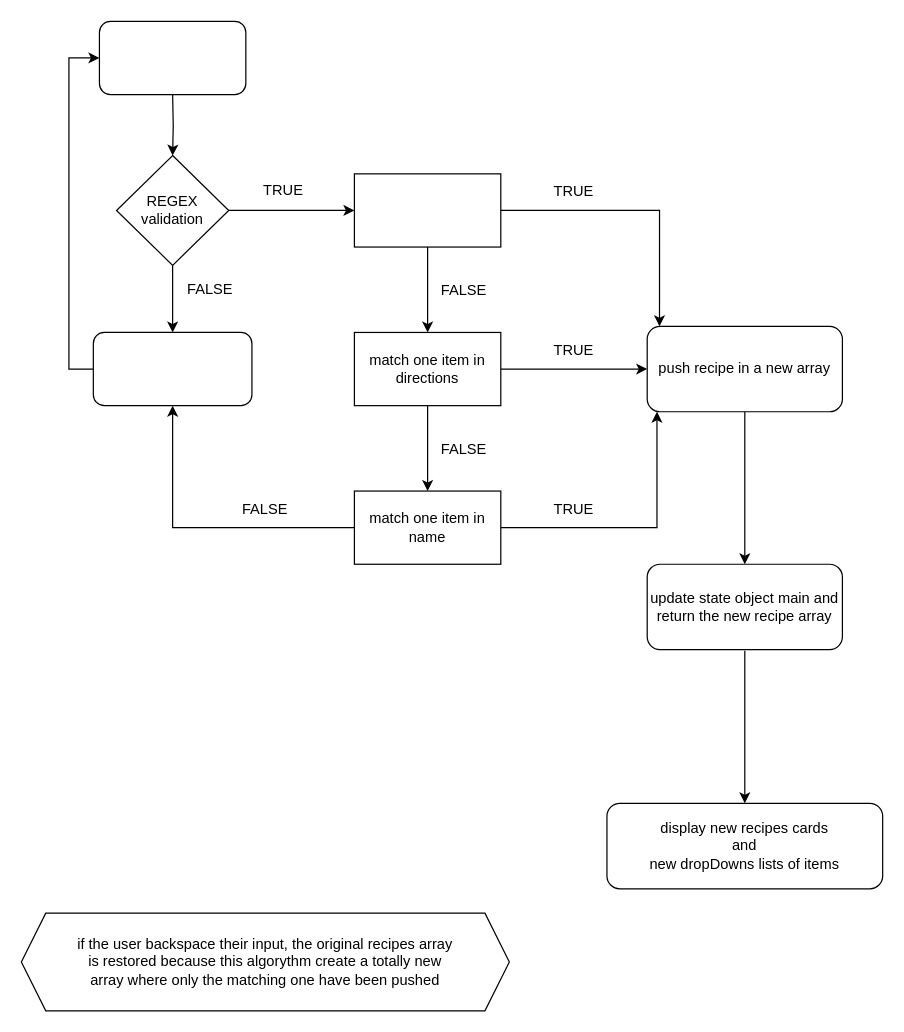
The diagram is 904 pixels wide and 1032 high, and some of its shapes have lost their labels. The shapes that lost their labels are listed below. From the top down, each one's centre as x and y in pixels, then its label:
At [172,57]: "User input on mainSearchbar".
At [427,210]: "match one item in ingredientsList".
At [172,368]: "display noRecipeMessage()".
